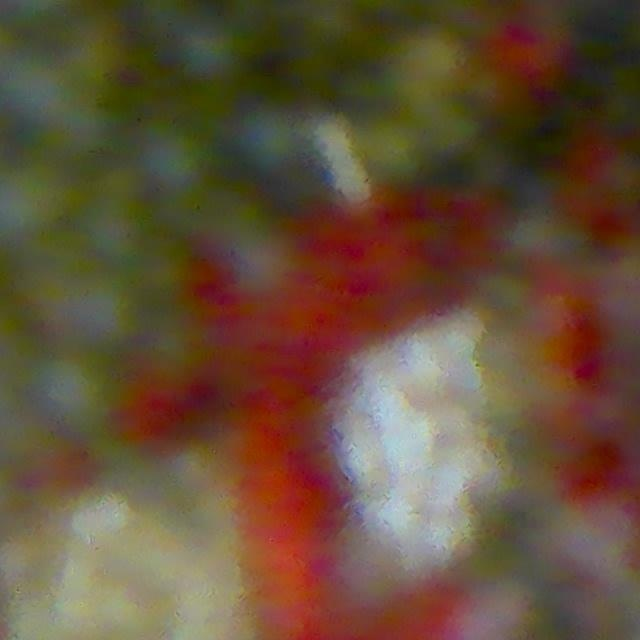SeaGrape: (33, 349, 120, 435), (65, 272, 143, 349), (138, 122, 210, 195), (140, 311, 210, 386), (236, 107, 302, 171), (594, 145, 640, 207)
